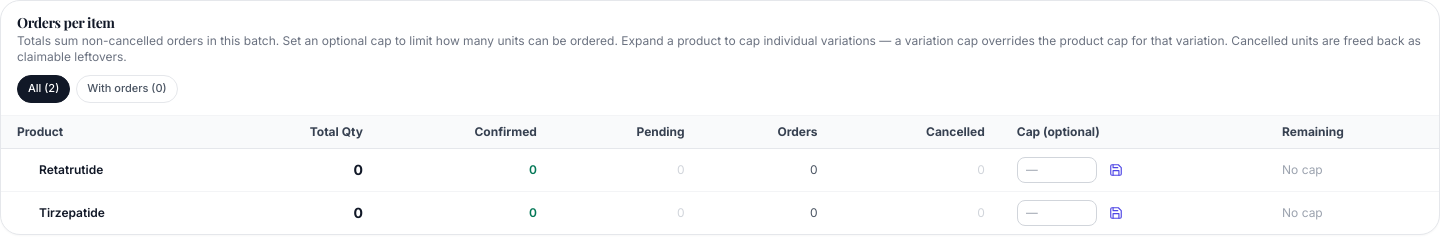
CapsProgressTable order filter › shows an empty message when the filter hides every product
Step 1. Click the button "With orders (0)" → (127, 89), box [76, 75, 178, 103]
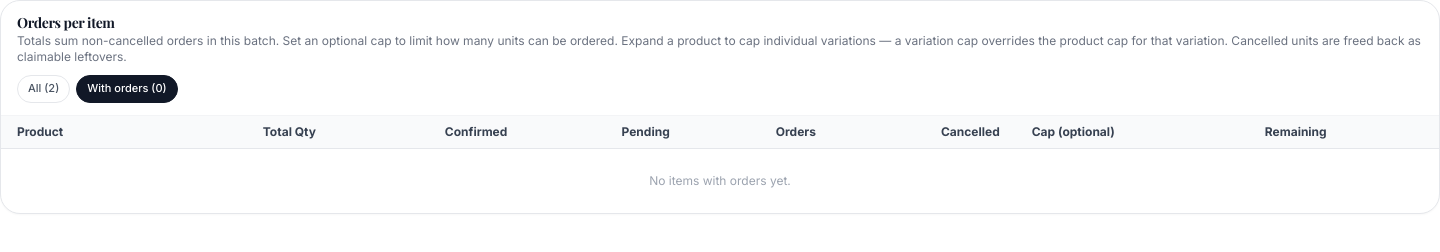
Result: the text "No items with orders yet." is shown at [1, 148, 1439, 213]
